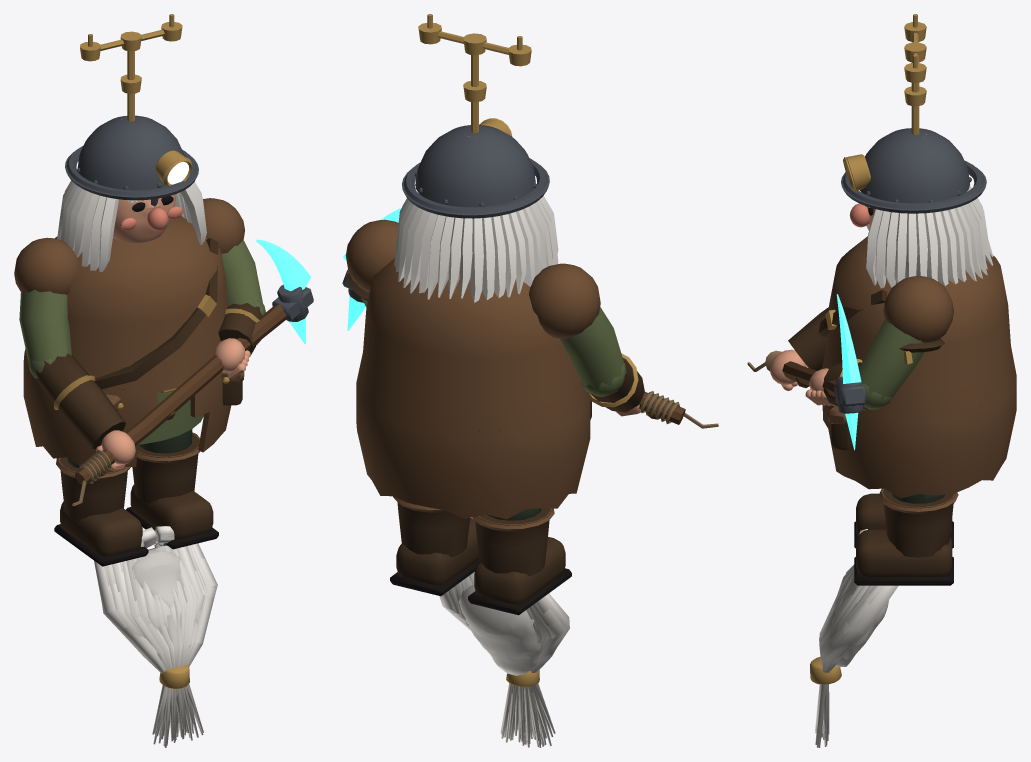
Rendered from aufbau.glb.
3 views of the same model, side by side, from view 1: azimuth 30°, elevation 25°; view 2: azimuth 150°, elevation 25°; view 3: azimuth 270°, elevation 25° (orthographic). The views are drawn at different scales.
Visible parts, largest first — view 1: auf_body, auf_beard; view 2: auf_body, auf_beard; view 3: auf_body, auf_beard.
Boxes of the visible parts, x1,y1,x2,y2 form: auf_body: (14,14,313,566); auf_beard: (94,526,217,747); auf_body: (342,14,718,615); auf_beard: (439,572,569,747); auf_body: (747,14,1016,585); auf_beard: (810,529,898,747).
Bounding box in the file's own units: 1.06 × 2.41 × 0.8357.
